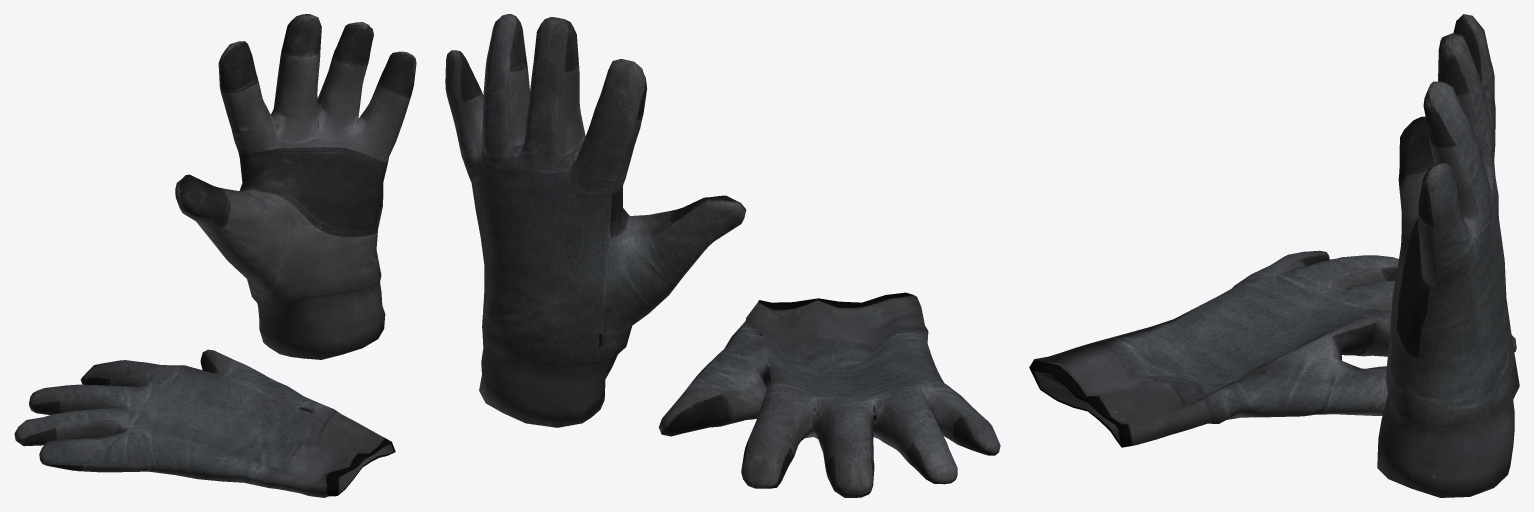
Rendered from tactical_gloves_low_poly_game_ready.glb.
3 views of the same model, side by side, from view 1: azimuth 30°, elevation 25°; view 2: azimuth 150°, elevation 25°; view 3: azimuth 270°, elevation 25° (orthographic). The views are drawn at different scales.
Visible parts, largest first — view 1: Gloves Low Poly001, Gloves Low Poly__0; view 2: Gloves Low Poly001, Gloves Low Poly__0; view 3: Gloves Low Poly001, Gloves Low Poly__0.
Boxes of the visible parts, x1,y1,x2,y2 form: Gloves Low Poly001: [175, 14, 416, 359]; Gloves Low Poly__0: [14, 349, 395, 497]; Gloves Low Poly001: [445, 14, 746, 427]; Gloves Low Poly__0: [658, 292, 1000, 497]; Gloves Low Poly001: [1377, 14, 1519, 497]; Gloves Low Poly__0: [1029, 250, 1516, 447].
Size of the model in its own units: 0.272 by 0.2067 by 0.2107.
1 material, 1 textured.
